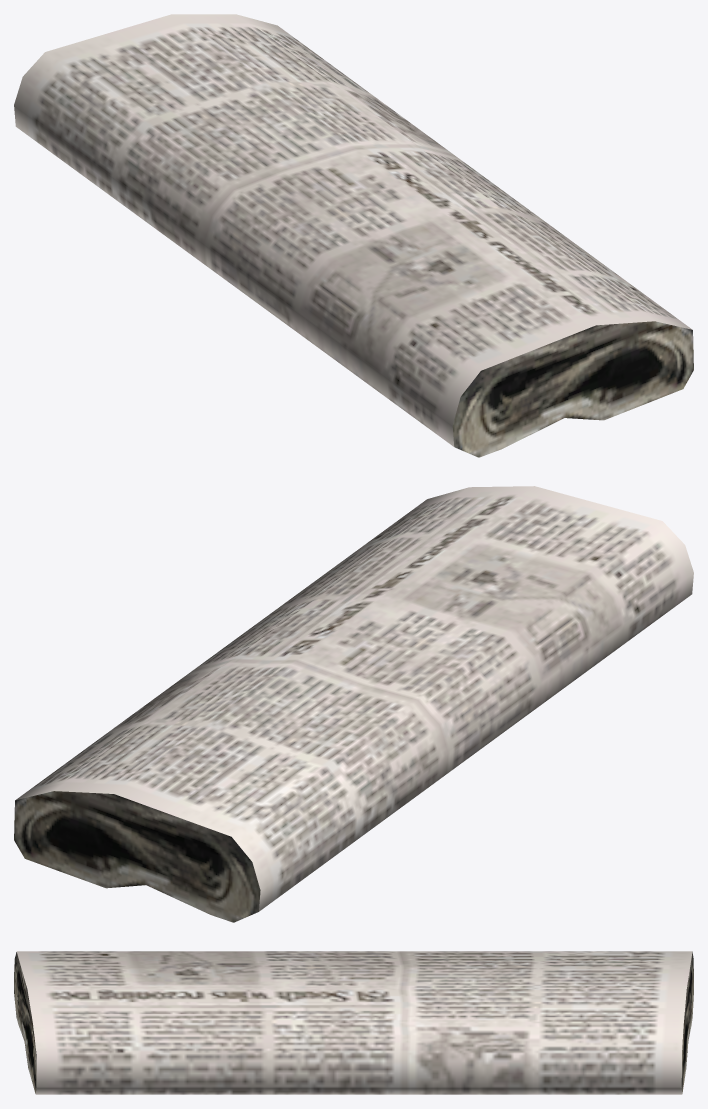
File: newspaper_rolled.dae
The picture shows the model from 3 angles, top to bottom: view 1: azimuth 30°, elevation 25°; view 2: azimuth 150°, elevation 25°; view 3: azimuth 270°, elevation 25°; orthographic projection. The views are drawn at different scales.
Parts seen in each view (by area): view 1: pCube1; view 2: pCube1; view 3: pCube1.
Boxes of the visible parts, left/top/right/bottom form: pCube1: left=14, top=14, right=693, bottom=457; pCube1: left=14, top=486, right=693, bottom=922; pCube1: left=14, top=951, right=693, bottom=1094.
Bounding box in the file's own units: 17.16 × 6.22 × 50.71.
